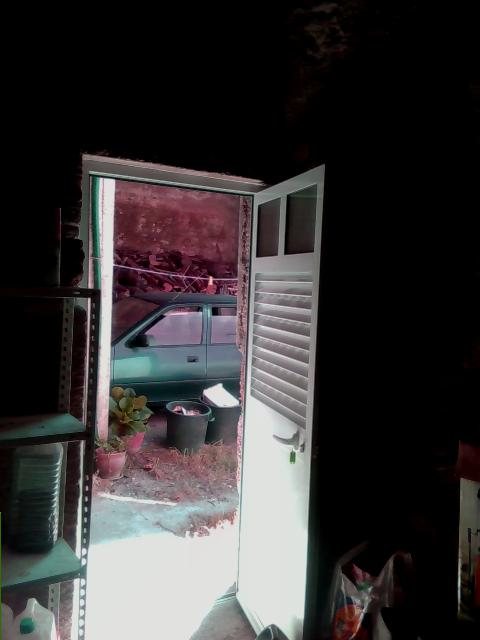open_door: (76, 156, 270, 639)
